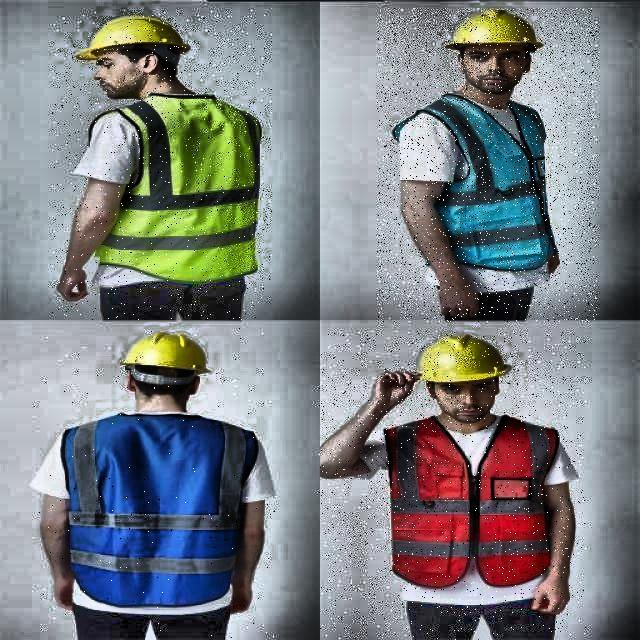safety_helmet: (411, 332, 514, 385), (74, 14, 195, 59), (444, 10, 546, 52), (118, 333, 218, 374)
safety_jacket: (55, 416, 250, 604), (82, 91, 266, 290), (380, 405, 566, 583), (387, 90, 567, 270)
